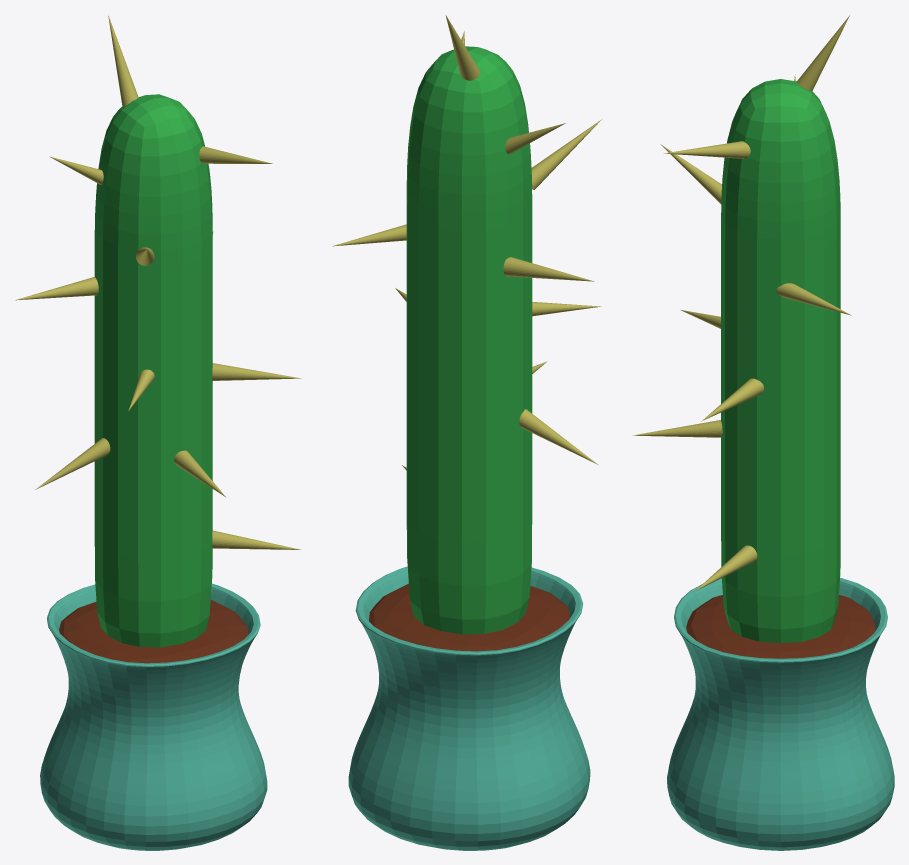
The model's file is cactus-plant-by-exceptional-3d-jwuWAgkXnc.glb.
The picture shows the model from 3 angles, left to right: view 1: azimuth 30°, elevation 25°; view 2: azimuth 150°, elevation 25°; view 3: azimuth 270°, elevation 25°; orthographic projection. The views are drawn at different scales.
Visible parts, largest first — view 1: Cube.002, Cube, Cube.001, Cone, Cone.004, Cone.002, Cone.001, Cone.005, Cone.007, Cone.003; view 2: Cube.002, Cube, Cube.001, Cone.001, Cone.006, Cone.005, Cone, Cone.008, Cone.009, Cone.010; view 3: Cube.002, Cube, Cube.001, Cone.003, Cone.007, Cone, Cone.004, Cone.008, Cone.002, Cone.006.
Boxes of the visible parts, <box> form: Cube.002: <box>94,94,212,647</box>; Cube: <box>40,583,267,850</box>; Cube.001: <box>59,600,248,663</box>; Cone: <box>108,15,138,106</box>; Cone.004: <box>212,530,301,549</box>; Cone.002: <box>212,363,301,380</box>; Cone.001: <box>15,277,98,300</box>; Cone.005: <box>35,438,110,489</box>; Cone.007: <box>199,146,272,163</box>; Cone.003: <box>174,450,225,496</box>; Cube.002: <box>406,46,532,634</box>; Cube: <box>348,566,590,850</box>; Cube.001: <box>369,583,569,651</box>; Cone.001: <box>503,257,594,281</box>; Cone.006: <box>531,119,601,189</box>; Cone.005: <box>519,409,598,464</box>; Cone: <box>445,15,479,80</box>; Cone.008: <box>332,224,406,246</box>; Cone.009: <box>505,123,565,154</box>; Cone.010: <box>532,302,601,316</box>; Cube.002: <box>721,79,840,643</box>; Cube: <box>667,578,894,850</box>; Cube.001: <box>686,595,875,658</box>; Cone.003: <box>632,420,722,437</box>; Cone.007: <box>663,141,750,158</box>; Cone: <box>796,15,849,91</box>; Cone.004: <box>695,545,757,591</box>; Cone.008: <box>776,283,851,315</box>; Cone.002: <box>701,378,763,421</box>; Cone.006: <box>660,144,721,204</box>.
Bounding box in the file's own units: 1.5 × 4.76 × 1.41.
